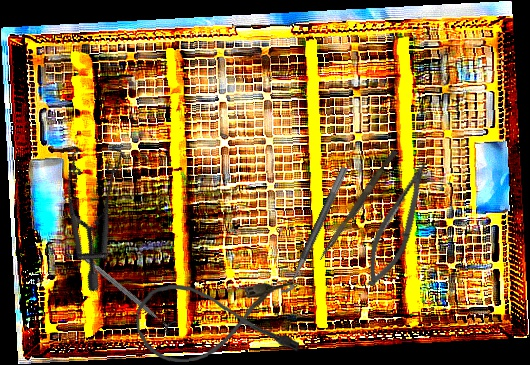Cannula: (134, 278, 300, 365)
Fixation Ring: (271, 160, 350, 298), (76, 248, 178, 336)
Micro Scissor: (357, 155, 436, 293)
Pusher: (318, 147, 398, 264)
Speculum: (26, 123, 177, 294)
